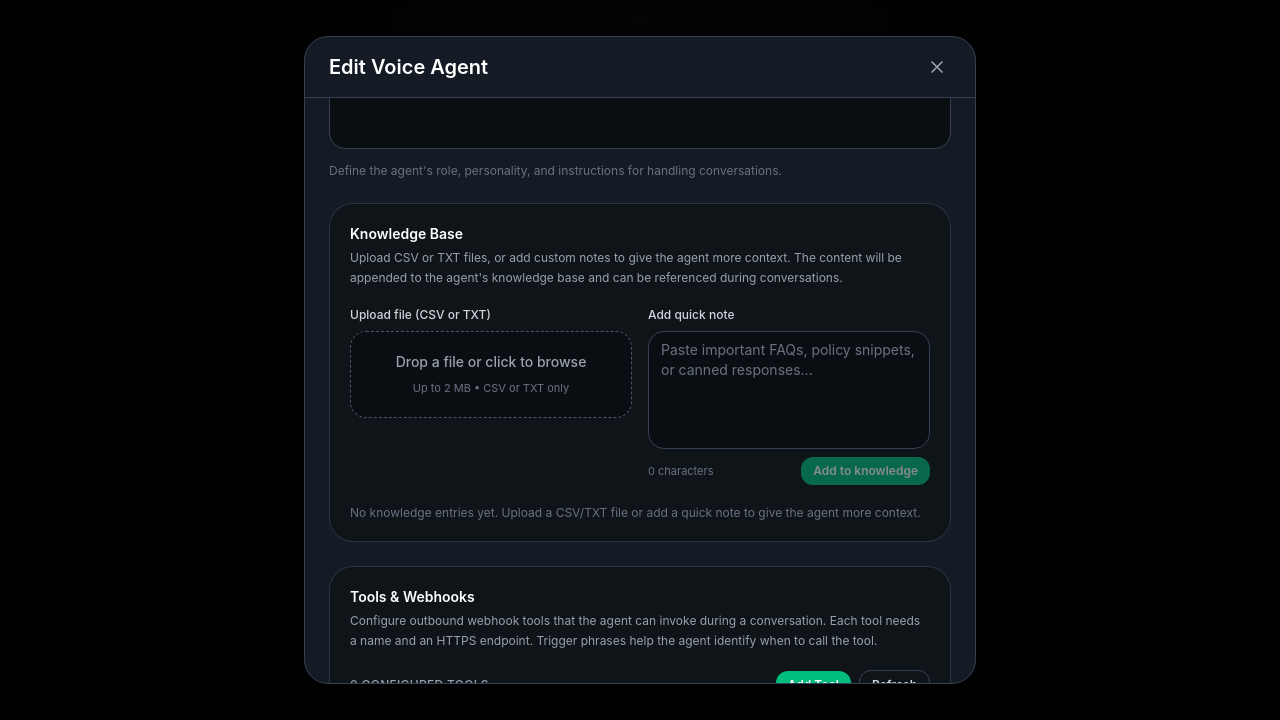
Scenario: AgentModal knowledge management › falls back to timestamp-based ids when crypto.randomUUID is unavailable
The image size is (1280, 720).
(page scrolled)
Step 1. Type "Timestamp note" into the text box with placeholder "Paste important FAQs, policy snippets, or canned responses..." → point(789, 390), box [648, 331, 930, 449]
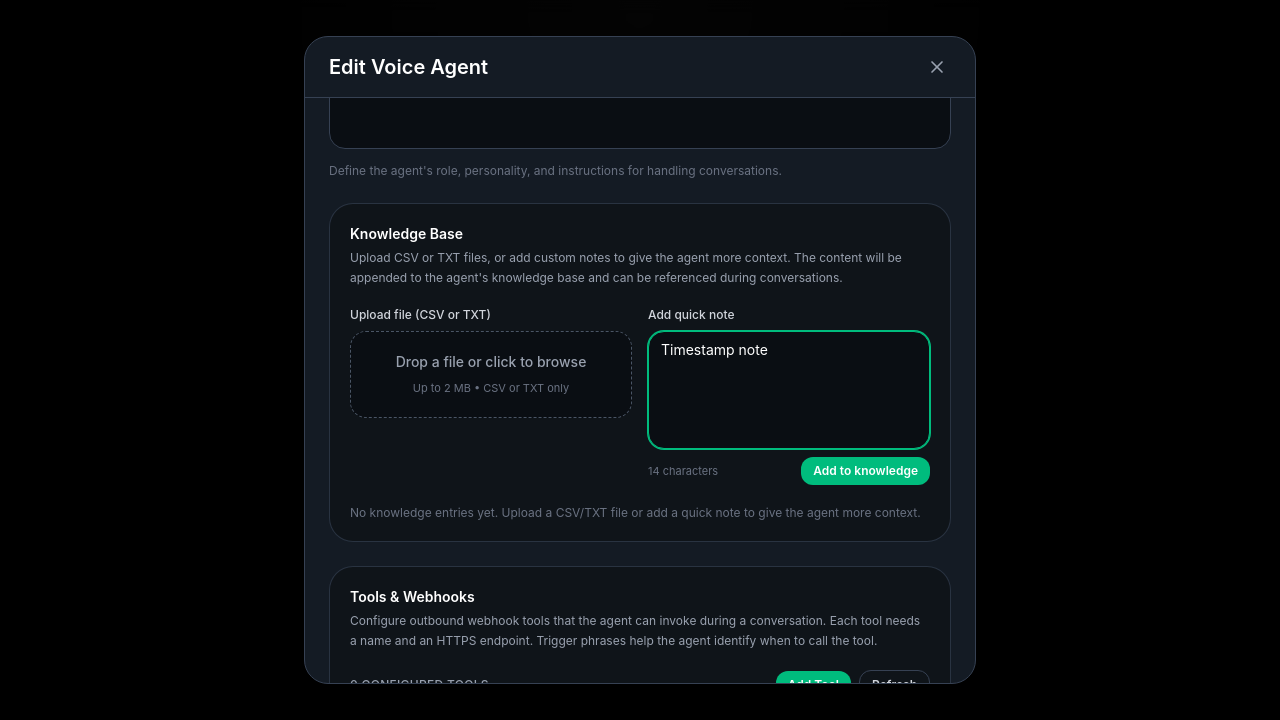
Step 2. Click the button "Add to knowledge" → point(866, 471), box [801, 457, 930, 485]
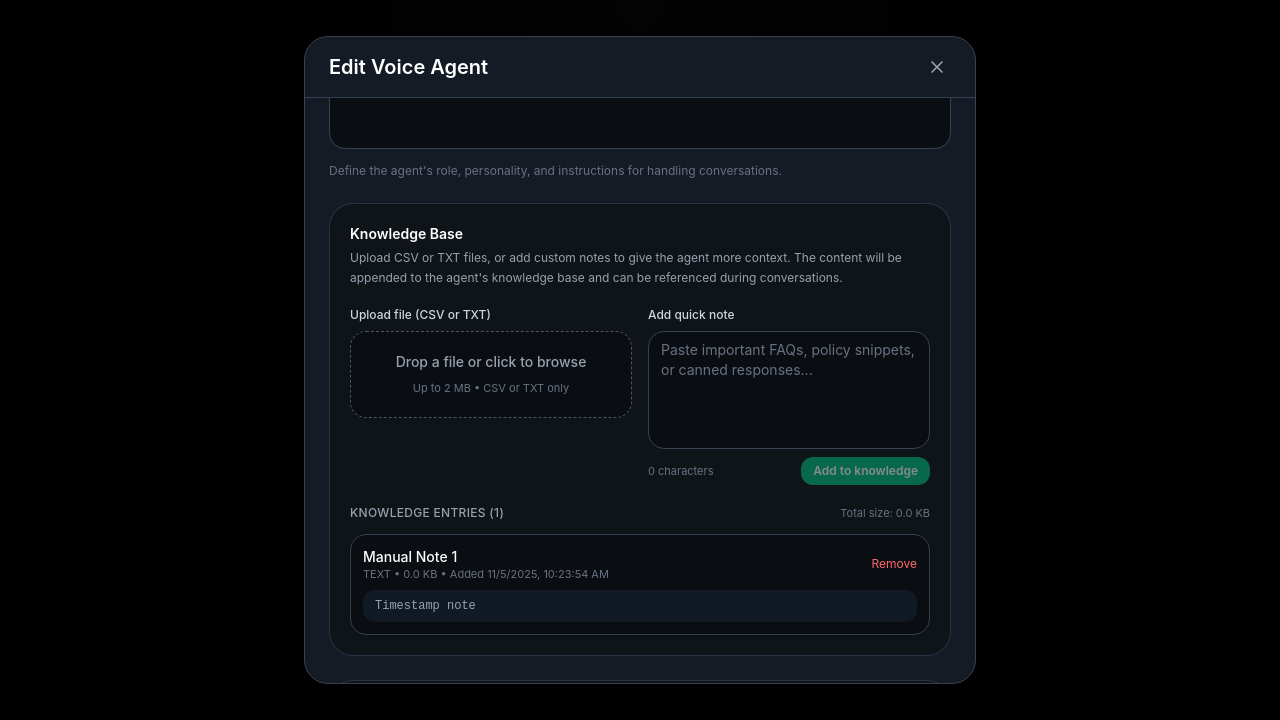
Check: the text "Knowledge entries (1)" is shown, box [350, 505, 504, 521]
Check: the text "Manual Note 1" is shown, box [363, 548, 457, 564]
